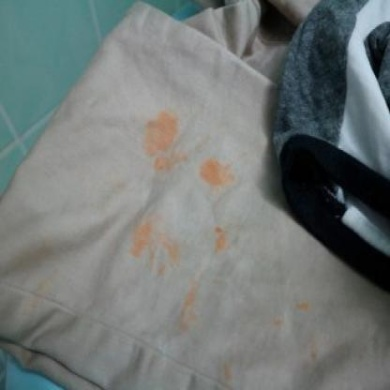kimchi: (134, 104, 188, 173), (130, 218, 181, 277), (21, 265, 66, 322), (196, 157, 241, 192), (181, 285, 201, 338), (209, 225, 228, 260), (292, 298, 315, 319), (217, 361, 234, 382), (275, 316, 285, 333), (310, 347, 322, 360)
